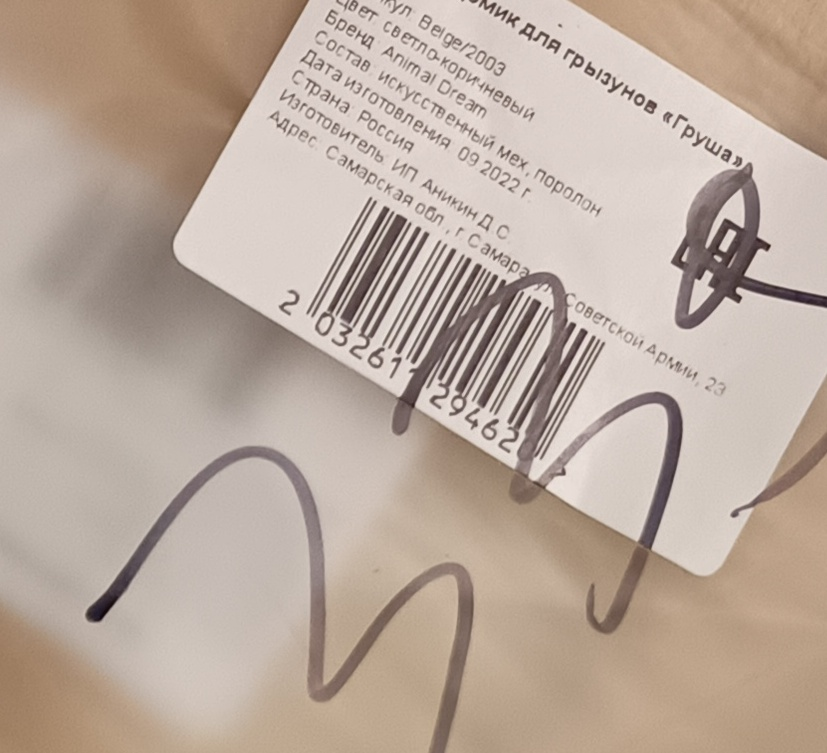1d: (306, 183, 610, 458)
